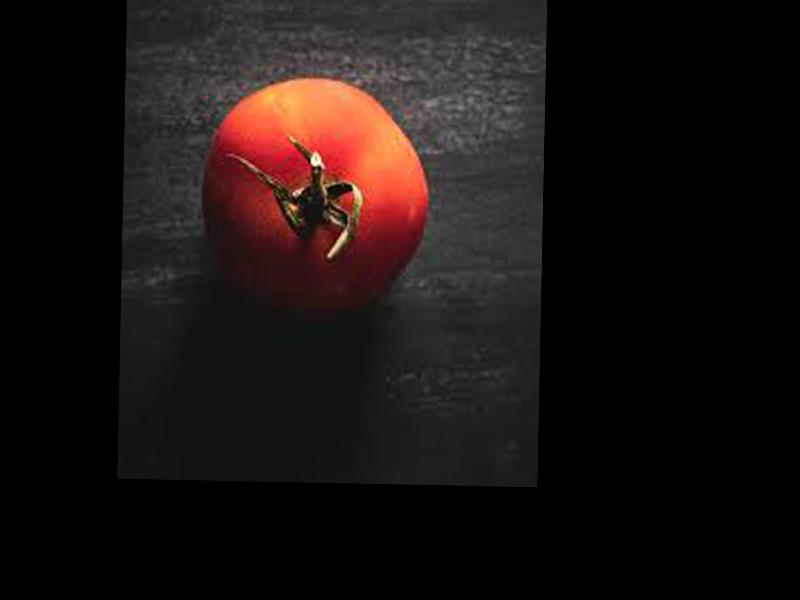Tomato: (203, 74, 430, 313)
